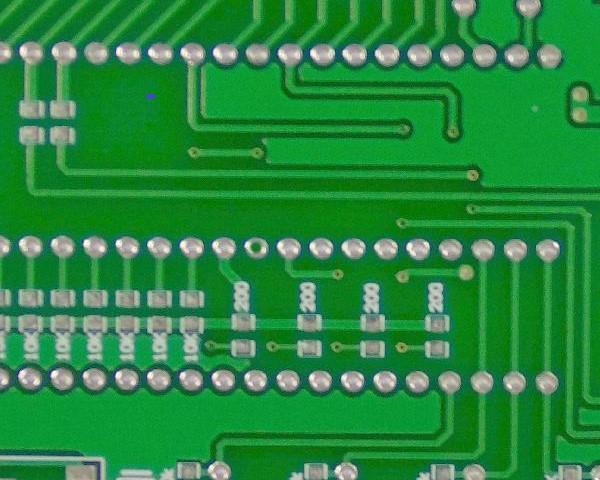missing hole: (242, 232, 273, 260)
